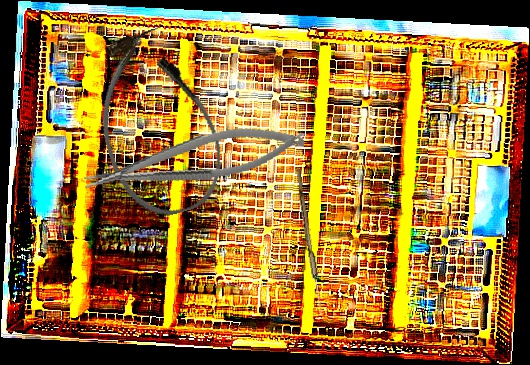Cannula: (79, 20, 235, 227)
Needle Holder: (79, 117, 308, 200)
Surgical Spoon: (293, 168, 326, 317)
